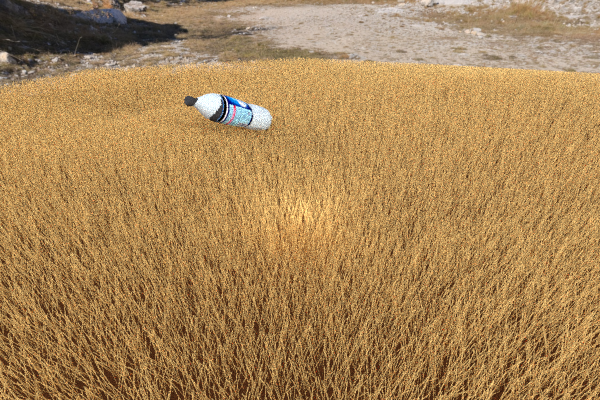bottle: (184, 93, 272, 131)
can: (337, 118, 392, 170), (599, 112, 600, 158)
